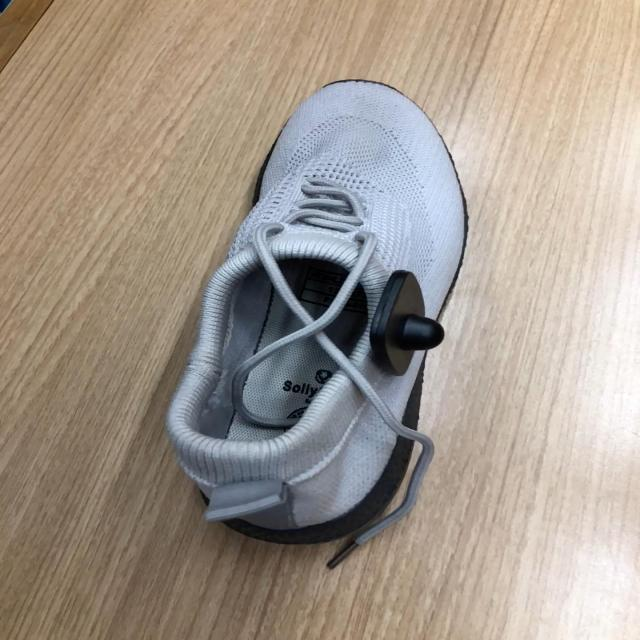shoe: (164, 79, 469, 548)
